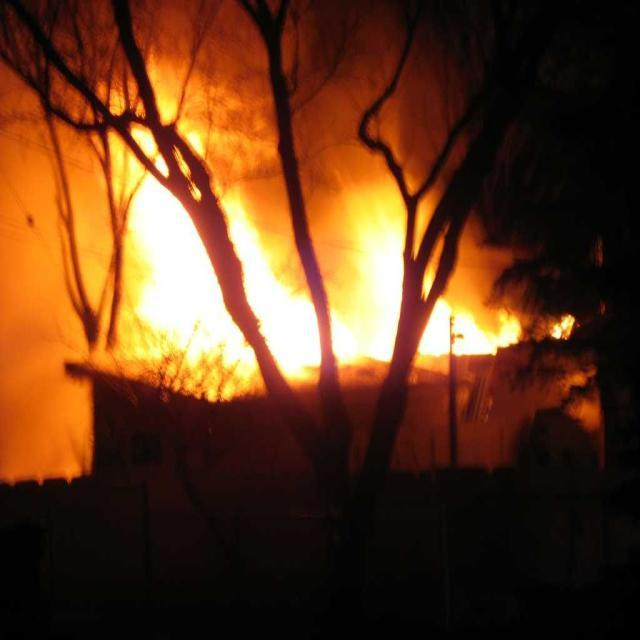Fire: (120, 130, 478, 371)
